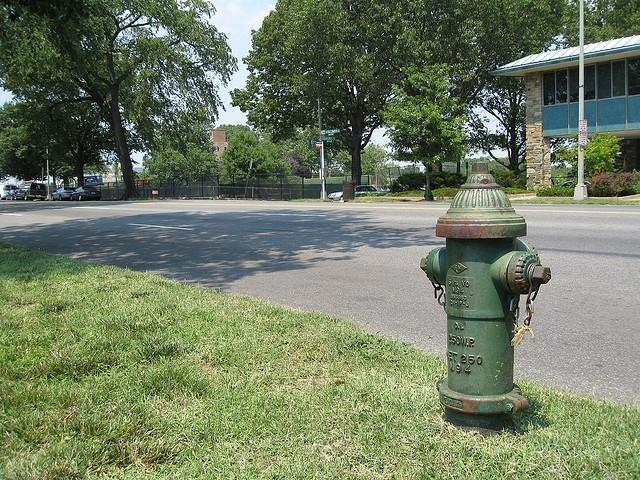car: (328, 184, 386, 200), (70, 186, 101, 200), (51, 188, 73, 200), (1, 185, 18, 200)
truck: (12, 180, 48, 201), (84, 174, 104, 186)
